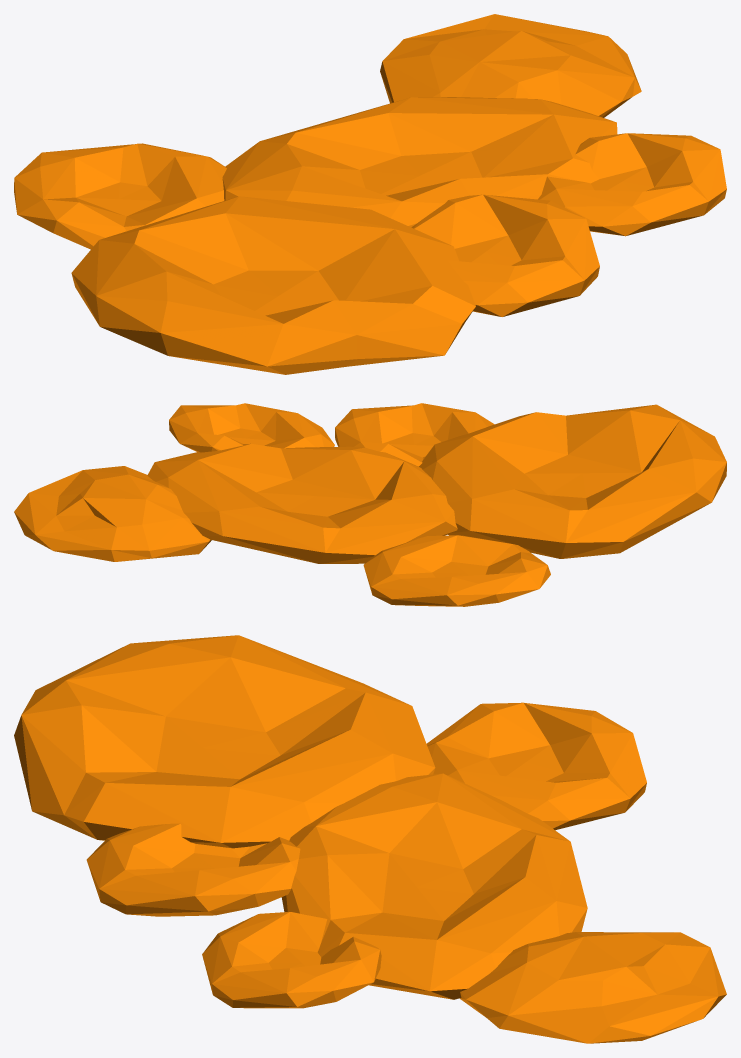
The model's file is Vegetation_Verdant_Mushroom_Toadstool_Shelf_01.FBX.
3 renders of one model, top to bottom at view 1: azimuth 30°, elevation 25°; view 2: azimuth 150°, elevation 25°; view 3: azimuth 270°, elevation 25°, orthographic. The views are drawn at different scales.
Parts seen in each view (by area): view 1: Vegetation_Verdant_Mushroom_Toadstool_Shelf_01; view 2: Vegetation_Verdant_Mushroom_Toadstool_Shelf_01; view 3: Vegetation_Verdant_Mushroom_Toadstool_Shelf_01.
Boxes of the visible parts, x1,y1,x2,y2 form: Vegetation_Verdant_Mushroom_Toadstool_Shelf_01: (14,14,726,374); Vegetation_Verdant_Mushroom_Toadstool_Shelf_01: (14,403,726,606); Vegetation_Verdant_Mushroom_Toadstool_Shelf_01: (14,635,726,1043).
Size of the model in its own units: 3322 by 420 by 2787.
